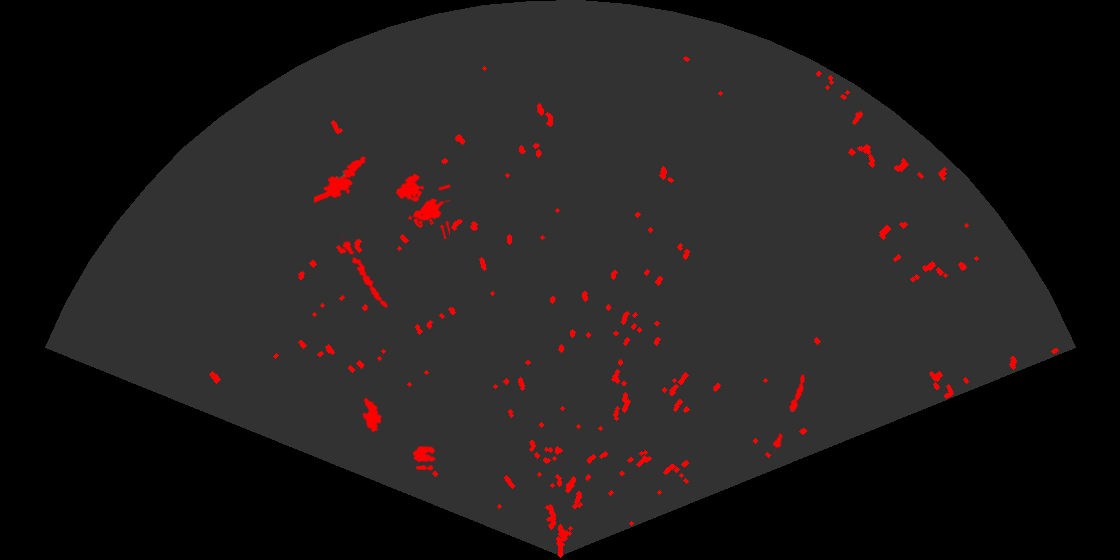AUV: (361, 396, 383, 434)
ball: (411, 444, 437, 472)
cage: (394, 172, 450, 239)
chain: (338, 235, 390, 309), (771, 372, 807, 455)
frogman: (314, 155, 368, 205)
